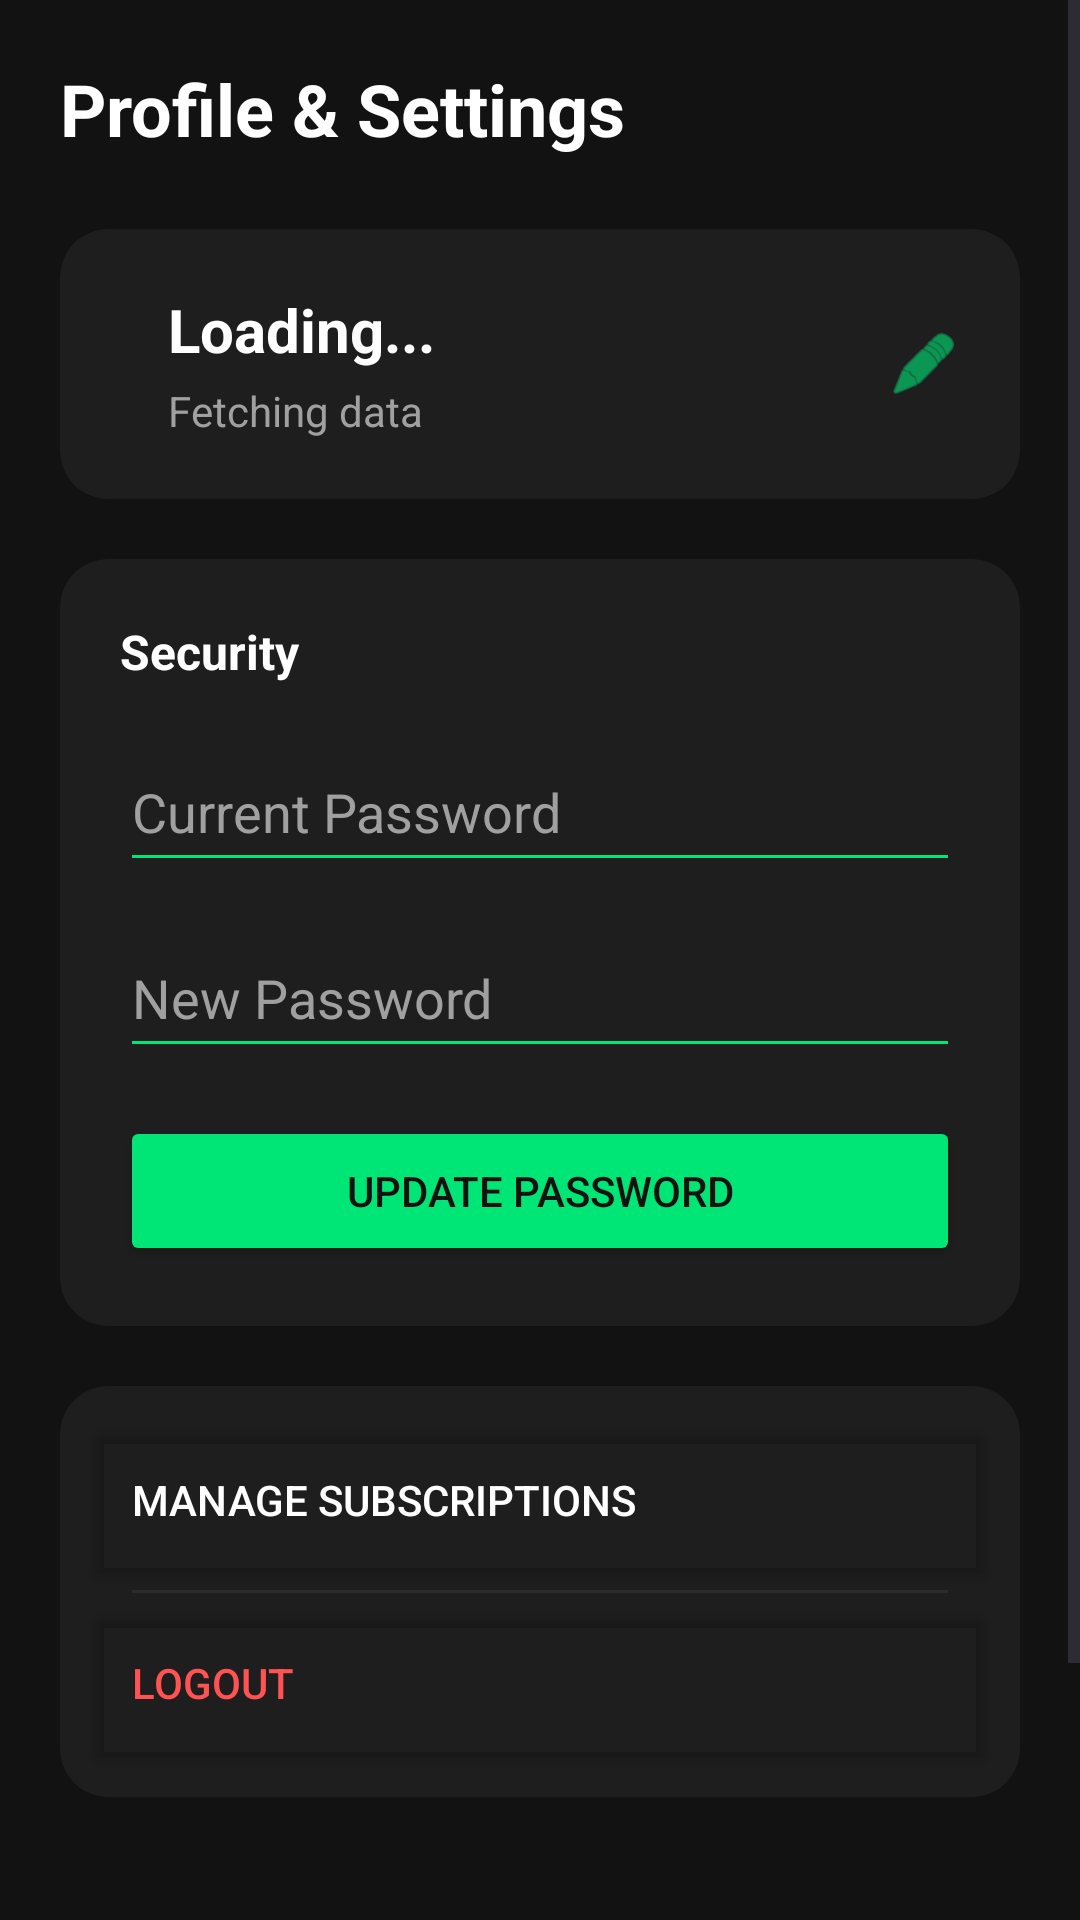

Locate icon controls on the screen. Image size 1080 × 1920, boxes as (x1, y1, x2, y2).
edit: (893, 333, 954, 394)
